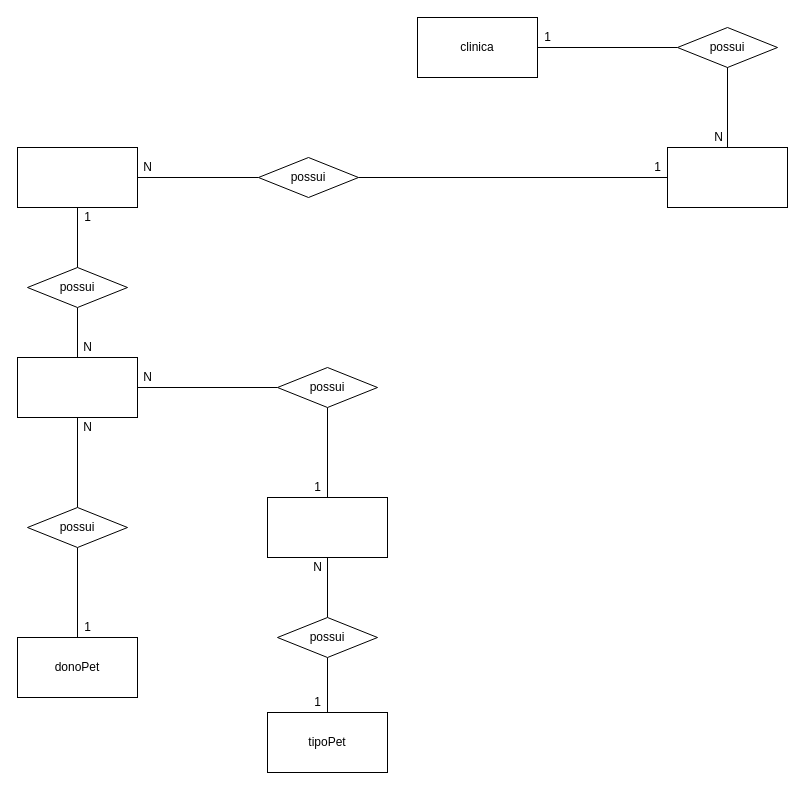
The diagram is 805 pixels wide and 790 high, and some of its shapes have lost their labels. Each missing label, with the box of its shape:
atendimento: (16, 146, 138, 208)
pet: (16, 356, 138, 418)
raçaPet: (266, 496, 388, 558)
veterinario: (666, 146, 788, 208)
